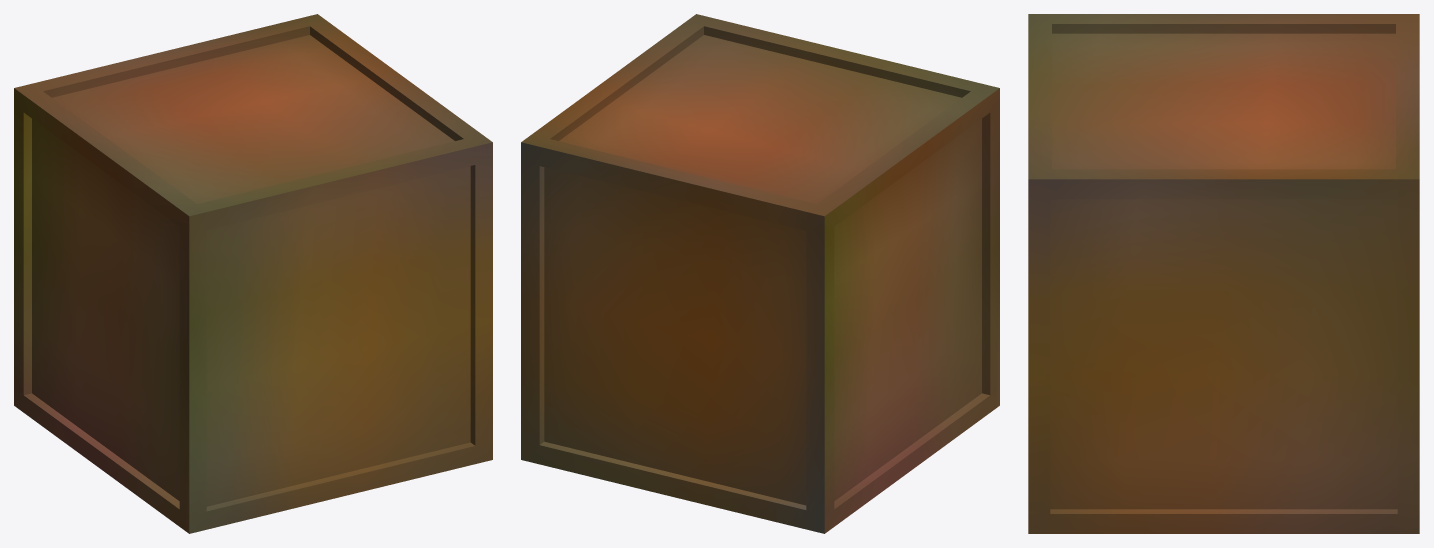
File: mega-pack-cube-293.glb
3 renders of one model, left to right at view 1: azimuth 30°, elevation 25°; view 2: azimuth 150°, elevation 25°; view 3: azimuth 270°, elevation 25°, orthographic. The views are drawn at different scales.
Parts seen in each view (by area): view 1: Cube.293; view 2: Cube.293; view 3: Cube.293.
Part boxes in pixels (x1,y1,x2,y2): Cube.293: (14,14,492,533); Cube.293: (521,14,999,533); Cube.293: (1028,14,1419,533).
Size of the model in its own units: 0.5459 by 0.5459 by 0.5459.
1 material, 1 textured.
